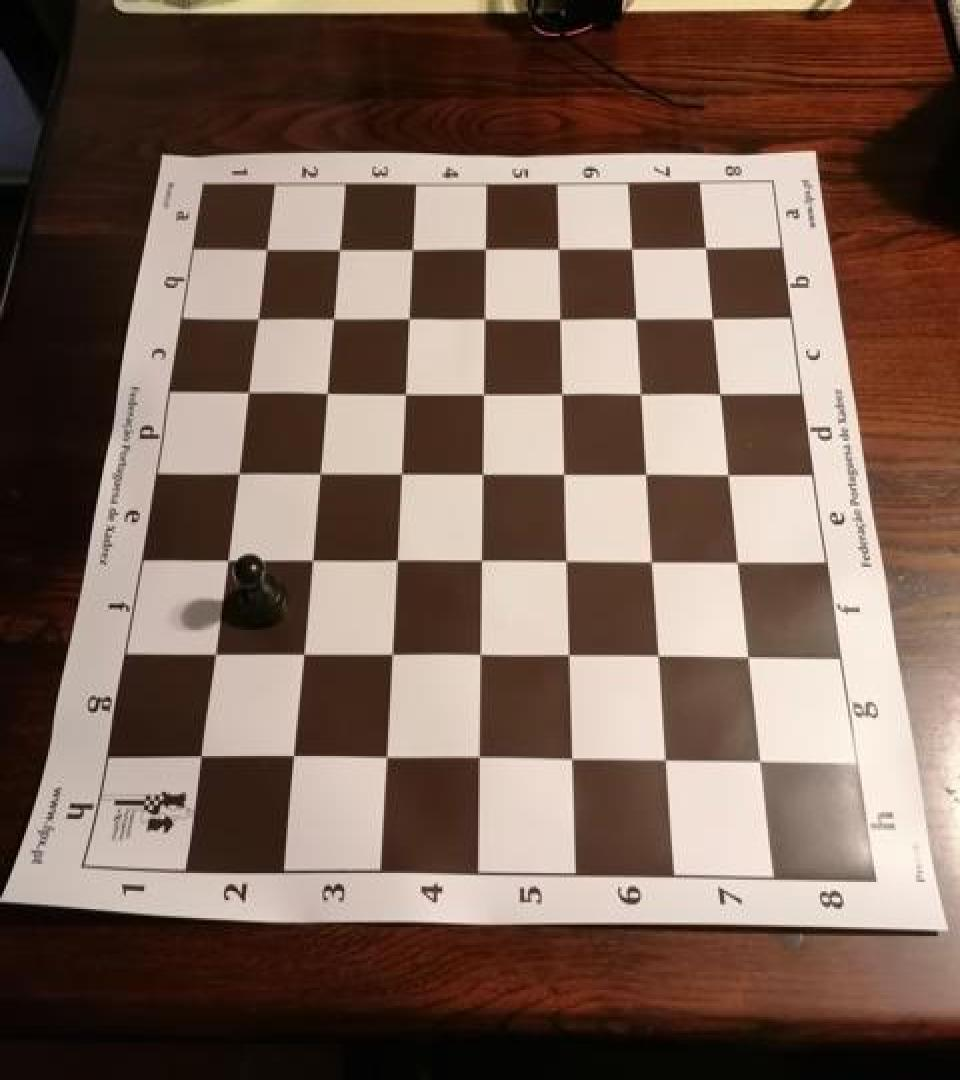xcorner: (722, 544, 754, 581), (634, 543, 666, 580), (547, 543, 579, 580), (458, 741, 490, 778), (688, 228, 720, 264), (614, 230, 646, 266), (539, 230, 571, 266), (466, 230, 498, 266), (392, 232, 424, 268), (320, 232, 352, 268), (248, 233, 280, 269), (696, 299, 728, 335), (618, 299, 650, 335), (541, 299, 573, 335), (464, 300, 496, 336), (389, 300, 421, 336), (313, 300, 345, 336), (239, 300, 271, 336), (704, 374, 736, 410), (623, 374, 655, 410), (543, 374, 575, 410), (463, 374, 495, 410), (384, 374, 416, 410), (306, 374, 338, 410), (229, 374, 261, 410), (713, 456, 745, 492), (628, 456, 660, 492), (545, 456, 577, 492), (462, 454, 494, 490), (380, 454, 412, 490), (299, 454, 331, 490), (218, 454, 250, 490), (461, 542, 493, 578), (375, 542, 407, 578), (290, 541, 322, 577), (206, 540, 238, 576), (732, 641, 764, 677), (640, 640, 672, 676), (549, 639, 581, 675), (459, 638, 491, 674), (370, 637, 402, 673), (282, 636, 314, 672), (194, 634, 226, 670), (743, 747, 775, 783), (647, 745, 679, 781), (552, 744, 584, 780), (364, 740, 396, 776), (272, 738, 304, 774), (180, 737, 212, 773)
